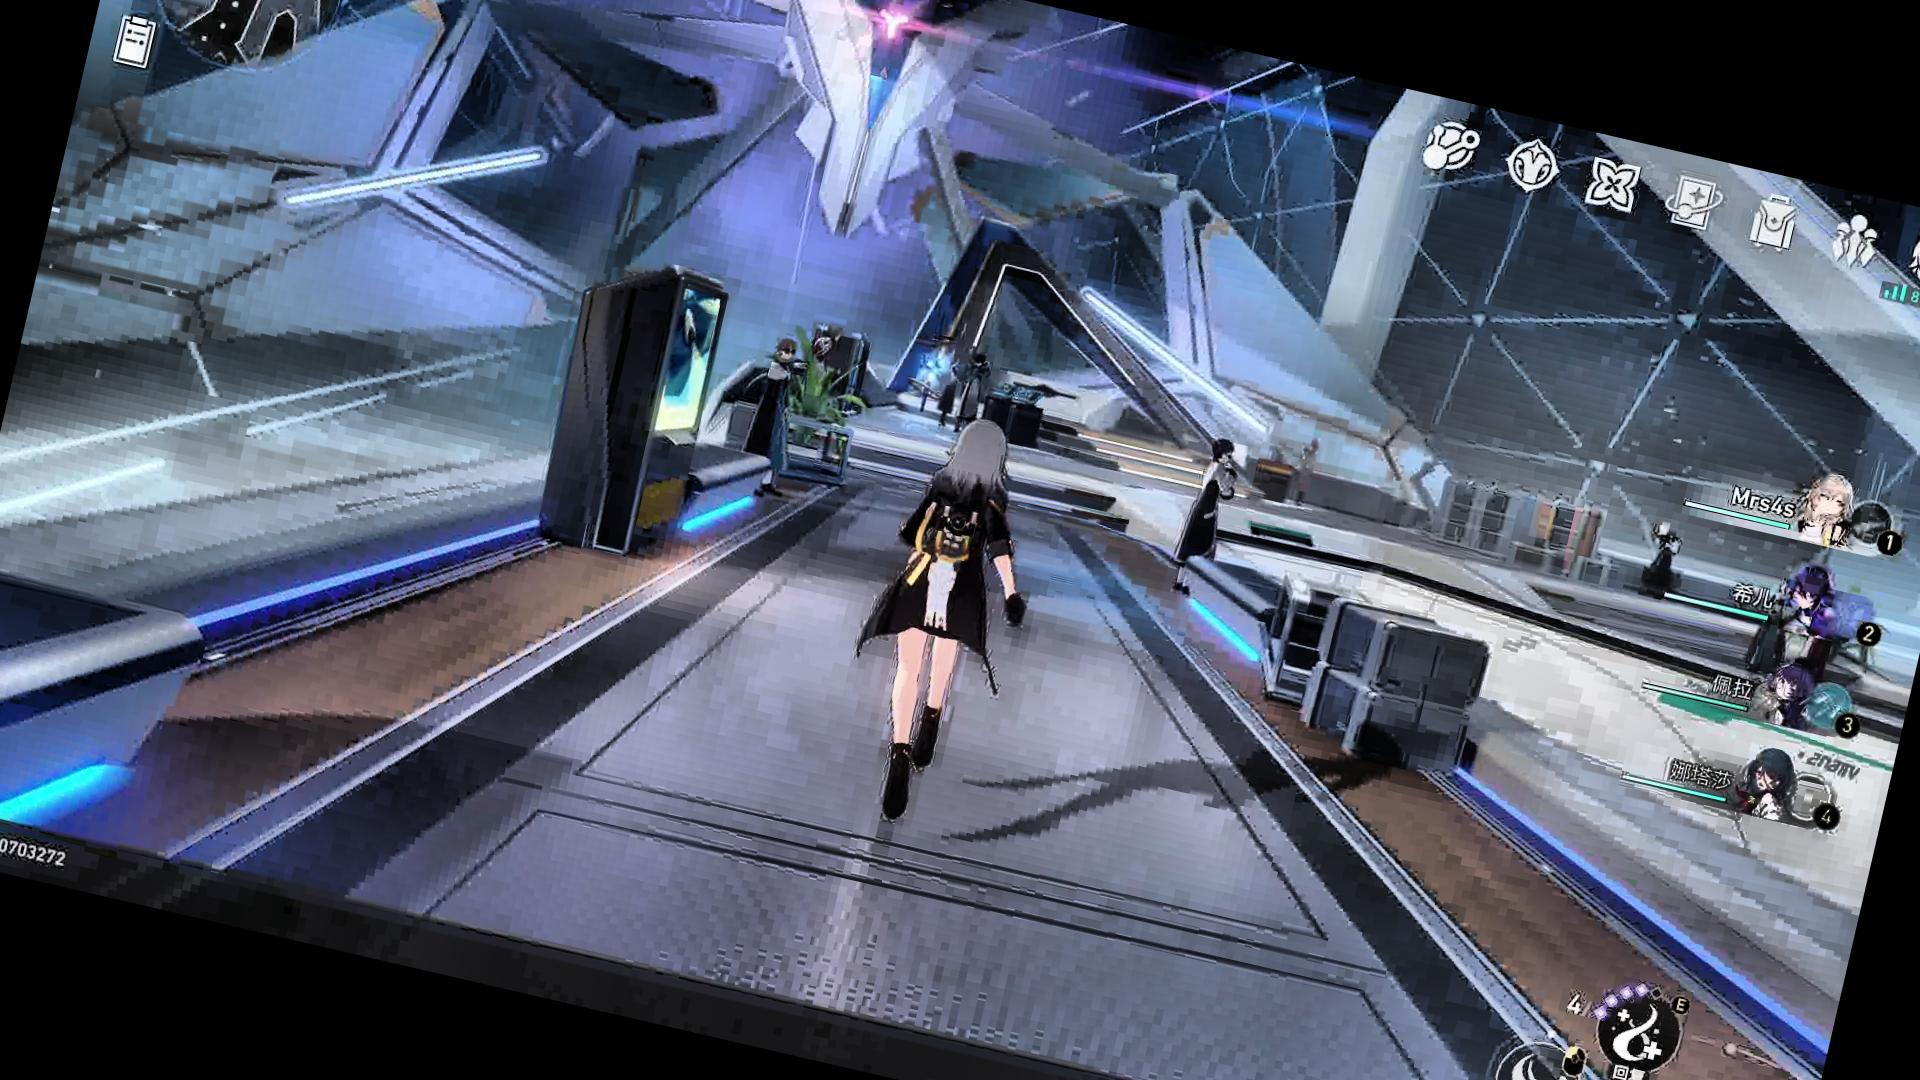Self: (823, 404, 1069, 843)
TeamMate: (723, 324, 825, 509), (1162, 431, 1249, 609), (936, 343, 1004, 440), (1636, 509, 1697, 611), (1280, 426, 1327, 512)
